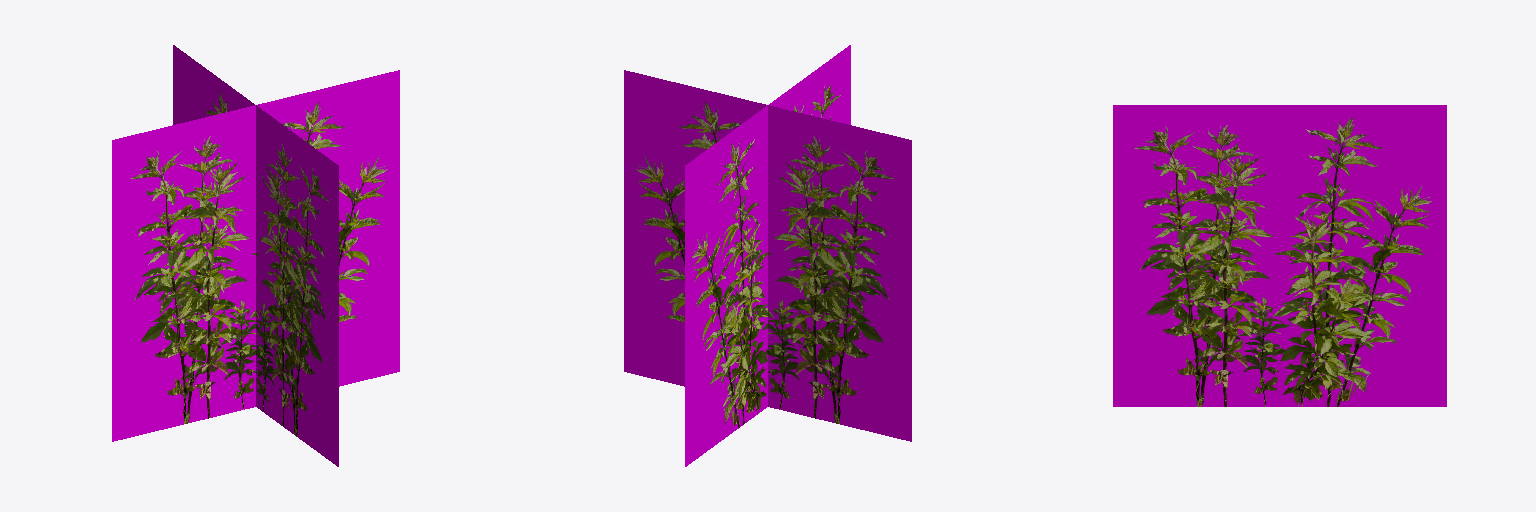
3 views of the same model, side by side, from view 1: azimuth 30°, elevation 25°; view 2: azimuth 150°, elevation 25°; view 3: azimuth 270°, elevation 25° (orthographic).
Parts seen in each view (by area): view 1: Plane.001; view 2: Plane.001; view 3: Plane.001.
Part boxes in pixels (x1,y1,x2,y2): Plane.001: (112, 45, 399, 466); Plane.001: (624, 45, 911, 466); Plane.001: (1113, 105, 1446, 406).
Size of the model in its own units: 2 by 2 by 2.
Materials: 1 (1 with a texture image).